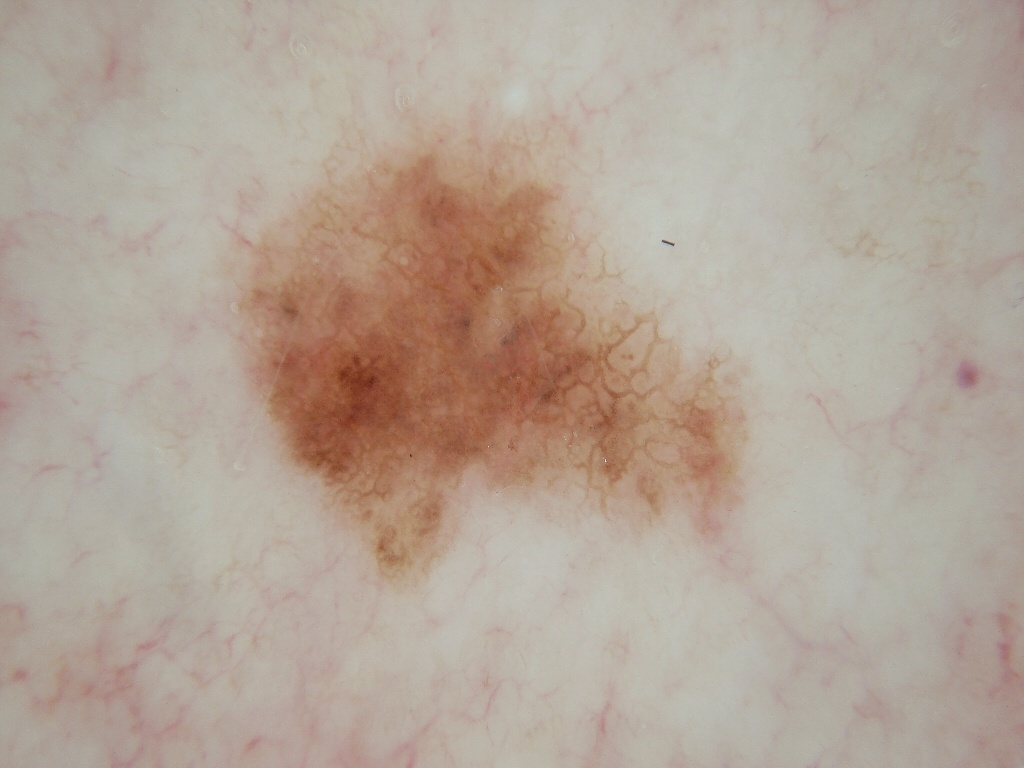Detected Lesion: (224, 129, 761, 597)
